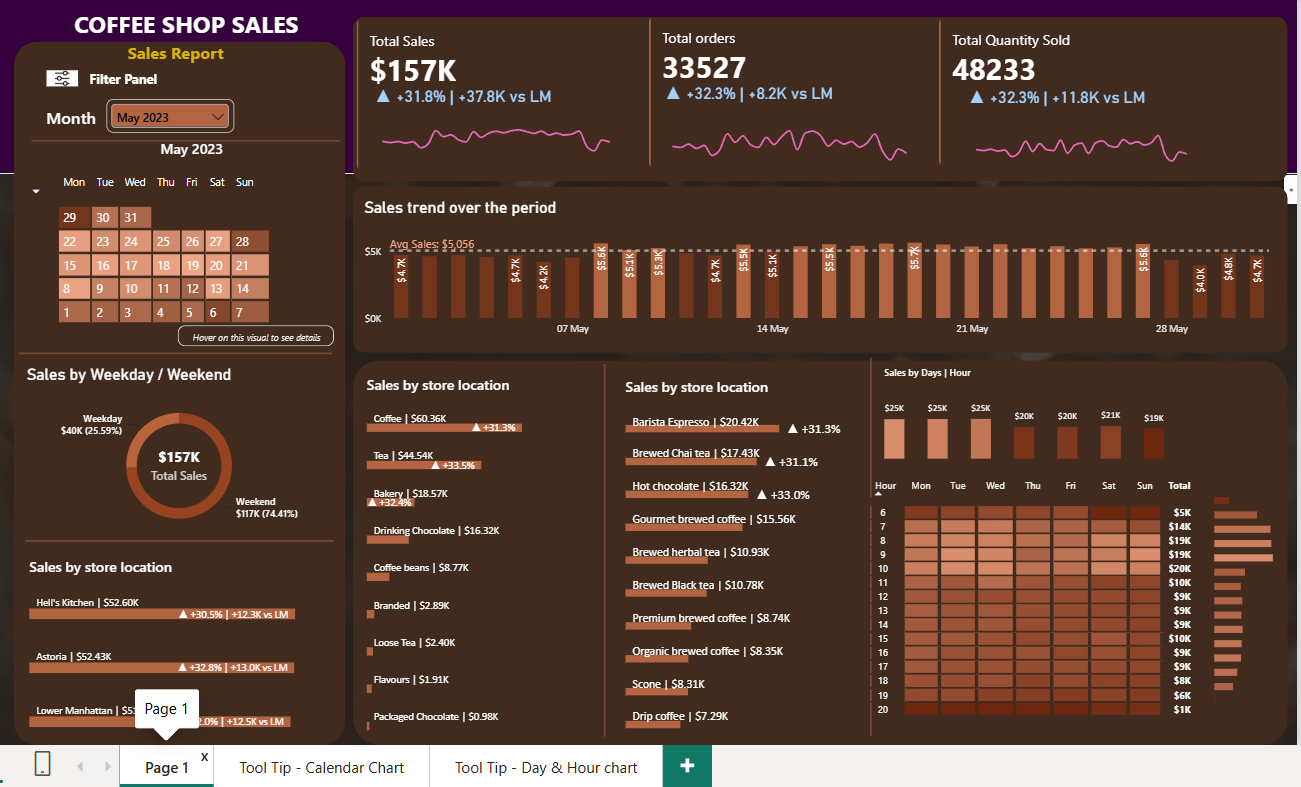

What the dashboard file says about the page in this screenshot:
{"tool":"powerbi","page":{"name":"Page 1","canvas":[1480,850],"ordinal":0},"visuals":[{"type":"shape","box":[403.1,411.6,1065.4,438.7],"z":0},{"type":"shape","box":[0,0,1499.8,199.4],"z":1000},{"type":"shape","box":[17.1,48.4,377.4,801.9],"z":2000},{"type":"shape","box":[403.1,19.9,1065.4,188],"z":3000},{"type":"textbox","box":[32.8,10,361.8,38.5],"z":4000},{"type":"cardVisual","fields":{"Data":["Transactions.Total orders"]},"box":[740.6,18.5,305.7,176.4],"z":4000,"group":"g2"},{"type":"cardVisual","fields":{"Data":["Transactions.Total Quantity Sold"]},"box":[1071.1,19.9,280.7,172.3],"z":4000,"group":"g3"},{"type":"cardVisual","fields":{"Data":["Transactions.Total Sales"]},"box":[407.3,21.4,290.5,175.9],"z":4000,"group":"g1"},{"type":"slicer","fields":{"Values":["Date_Table.Month Year"]},"box":[122.5,113.9,145.3,38.5],"z":5000},{"type":"group","id":"g1","title":"Group 1","box":[407.3,21.4,313.3,182.3],"z":6000},{"type":"lineChart","fields":{"Category":["Date_Table.Date.Variation.Date Hierarchy.Year","Date_Table.Date.Variation.Date Hierarchy.Quarter","Date_Table.Date.Variation.Date Hierarchy.Month","Date_Table.Date.Variation.Date Hierarchy.Day"],"Y":["Transactions.Total orders"]},"box":[742.4,80.6,317.3,119.5],"z":6000,"group":"g2"},{"type":"lineChart","fields":{"Category":["Date_Table.Date.Variation.Date Hierarchy.Year","Date_Table.Date.Variation.Date Hierarchy.Quarter","Date_Table.Date.Variation.Date Hierarchy.Month","Date_Table.Date.Variation.Date Hierarchy.Day"],"Y":["Transactions.Total Sales"]},"box":[410.9,84.5,309.7,119.2],"z":6000,"group":"g1"},{"type":"lineChart","fields":{"Category":["Date_Table.Date.Variation.Date Hierarchy.Year","Date_Table.Date.Variation.Date Hierarchy.Quarter","Date_Table.Date.Variation.Date Hierarchy.Month","Date_Table.Date.Variation.Date Hierarchy.Day"],"Y":["Transactions.Total Quantity Sold"]},"box":[1088.1,84.8,290.6,119.6],"z":6000,"group":"g3"},{"type":"group","id":"g2","title":"Group 1","box":[740.6,18.5,319,182.3],"z":7000},{"type":"group","id":"g3","title":"Group 1","box":[1071.1,19.9,307.6,185.2],"z":8000},{"type":"pivotTable","fields":{"Columns":["Date_Table.Date Name"],"Rows":["Date_Table.Week Number"],"Values":["Min(Date_Table.Day Number)"]},"box":[17.1,183.7,377.4,212.2],"z":9000},{"type":"cardVisual","fields":{"Data":["Min(Date_Table.Month Year)"]},"box":[146.7,156.7,146.7,27.1],"z":10000},{"type":"cardVisual","fields":{"Data":["Date_Table.Foot Note"]},"box":[203.7,371.7,178,24.2],"z":11000},{"type":"shape","box":[22.8,395.9,356.1,15.7],"z":12000},{"type":"shape","box":[37,156.7,351.8,10],"z":13000},{"type":"donutChart","title":"Sales by Weekday / Weekend","fields":{"Category":["Date_Table.Weekday / Weekend"],"Y":["Transactions.Total Sales"]},"box":[15,403.1,379,222],"z":14000},{"type":"cardVisual","fields":{"Data":["Transactions.Total Sales"]},"box":[142.4,512.7,125.3,38.5],"z":15000},{"type":"shape","box":[29.9,613.9,351.8,7.1],"z":16000},{"type":"clusteredBarChart","title":"Sales by store location","fields":{"Category":["Transactions.store_location"],"Y":["Transactions.Placeholder","Transactions.Total Sales"]},"box":[18.5,621,377.4,229.3],"z":17000},{"type":"shape","box":[403.1,213.6,1065.4,189.4],"z":18000},{"type":"columnChart","title":"Sales trend over the period","fields":{"Category":["Transactions.transaction_date"],"Y":["Transactions.Total Sales"]},"box":[400.2,212.2,1068.2,190.9],"z":19000},{"type":"clusteredBarChart","title":"Sales by store location","fields":{"Category":["Transactions.product_category"],"Y":["Transactions.Placeholder","Transactions.Total Sales"]},"box":[403.1,411.6,266.3,438.7],"z":20000},{"type":"shape","box":[682.2,415.9,15.7,424.4],"z":21000},{"type":"clusteredBarChart","title":"Sales by store location","fields":{"Category":["Transactions.product_type"],"Y":["Transactions.Placeholder","Transactions.Total Sales"]},"box":[697.9,415.9,289.1,431.6],"z":22000},{"type":"shape","box":[986.9,409.3,12.8,431.6],"z":23000},{"type":"pivotTable","fields":{"Columns":["Date_Table.Date Name"],"Rows":["Transactions.Hour"],"Values":["Transactions.Total Sales"]},"box":[993.2,542.6,376,299.9],"z":24000},{"type":"barChart","fields":{"Category":["Transactions.Hour"],"Y":["Transactions.Total Sales"]},"box":[1369.3,542.6,100,279.2],"z":25000},{"type":"columnChart","title":"Sales by Days | Hour","fields":{"Category":["Date_Table.Date Name"],"Y":["Transactions.Total Sales"]},"box":[993.2,410.9,337.6,126.8],"z":25001},{"type":"textbox","box":[33,123,113.9,43],"z":25003},{"type":"textbox","box":[146.7,48.4,121.1,32.8],"z":25004},{"type":"textbox","box":[89.7,81.2,104,32.8],"z":25005},{"type":"image","box":[54.1,81.2,35.6,18.5],"z":25006}]}

Visuals, with their boxes on the page's 1480x850 design canvas (x1, y1, x2, y2). These are canvas units, not pixel positions in the 1301x787 screenshot, which may show the page scaled, cropped or inside an application window:
shape: bbox=(403, 412, 1468, 850)
shape: bbox=(0, 0, 1500, 199)
shape: bbox=(17, 48, 394, 850)
shape: bbox=(403, 20, 1468, 208)
textbox: bbox=(33, 10, 395, 48)
cardVisual - Transactions.Total orders: bbox=(741, 18, 1046, 195)
cardVisual - Transactions.Total Quantity Sold: bbox=(1071, 20, 1352, 192)
cardVisual - Transactions.Total Sales: bbox=(407, 21, 698, 197)
slicer - Date_Table.Month Year: bbox=(122, 114, 268, 152)
"Group 1" group: bbox=(407, 21, 721, 204)
lineChart - Date_Table.Date.Variation.Date Hierarchy.Year x Date_Table.Date.Variation.Date Hierarchy.Quarter: bbox=(742, 81, 1060, 200)
lineChart - Date_Table.Date.Variation.Date Hierarchy.Year x Date_Table.Date.Variation.Date Hierarchy.Quarter: bbox=(411, 84, 721, 204)
lineChart - Date_Table.Date.Variation.Date Hierarchy.Year x Date_Table.Date.Variation.Date Hierarchy.Quarter: bbox=(1088, 85, 1379, 204)
"Group 1" group: bbox=(741, 18, 1060, 201)
"Group 1" group: bbox=(1071, 20, 1379, 205)
pivotTable - Date_Table.Date Name x Date_Table.Week Number: bbox=(17, 184, 394, 396)
cardVisual - Min(Date_Table.Month Year): bbox=(147, 157, 293, 184)
cardVisual - Date_Table.Foot Note: bbox=(204, 372, 382, 396)
shape: bbox=(23, 396, 379, 412)
shape: bbox=(37, 157, 389, 167)
"Sales by Weekday / Weekend" donutChart: bbox=(15, 403, 394, 625)
cardVisual - Transactions.Total Sales: bbox=(142, 513, 268, 551)
shape: bbox=(30, 614, 382, 621)
"Sales by store location" clusteredBarChart: bbox=(18, 621, 396, 850)
shape: bbox=(403, 214, 1468, 403)
"Sales trend over the period" columnChart: bbox=(400, 212, 1468, 403)
"Sales by store location" clusteredBarChart: bbox=(403, 412, 669, 850)
shape: bbox=(682, 416, 698, 840)
"Sales by store location" clusteredBarChart: bbox=(698, 416, 987, 848)
shape: bbox=(987, 409, 1000, 841)
pivotTable - Date_Table.Date Name x Transactions.Hour: bbox=(993, 543, 1369, 842)
barChart - Transactions.Hour x Transactions.Total Sales: bbox=(1369, 543, 1469, 822)
"Sales by Days | Hour" columnChart: bbox=(993, 411, 1331, 538)
textbox: bbox=(33, 123, 147, 166)
textbox: bbox=(147, 48, 268, 81)
textbox: bbox=(90, 81, 194, 114)
image: bbox=(54, 81, 90, 100)
